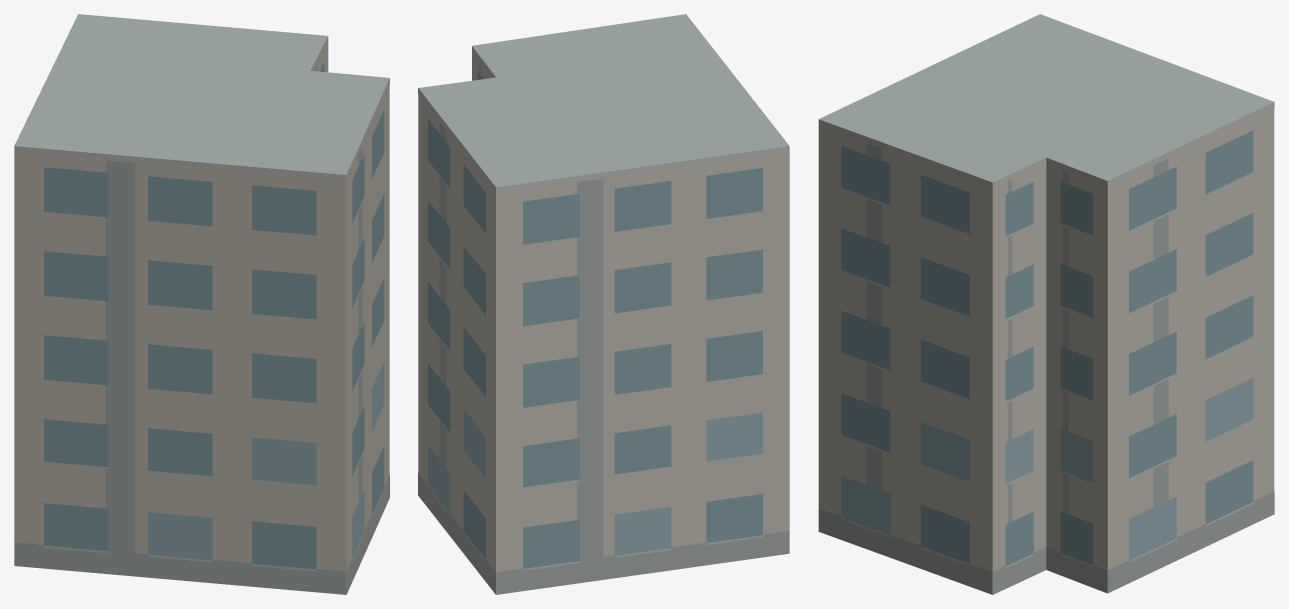
File: survey-upis-32846992.glb
The picture shows the model from 3 angles, left to right: view 1: azimuth 30°, elevation 25°; view 2: azimuth 150°, elevation 25°; view 3: azimuth 270°, elevation 25°; orthographic projection. The views are drawn at different scales.
Visible parts, largest first — view 1: survey-upis-32846992.tmp; view 2: survey-upis-32846992.tmp; view 3: survey-upis-32846992.tmp.
Part boxes in pixels (x1,y1,x2,y2): survey-upis-32846992.tmp: [14, 14, 389, 594]; survey-upis-32846992.tmp: [418, 14, 789, 594]; survey-upis-32846992.tmp: [818, 14, 1274, 594].
Size of the model in its own units: 13.94 by 15.9 by 15.93.
